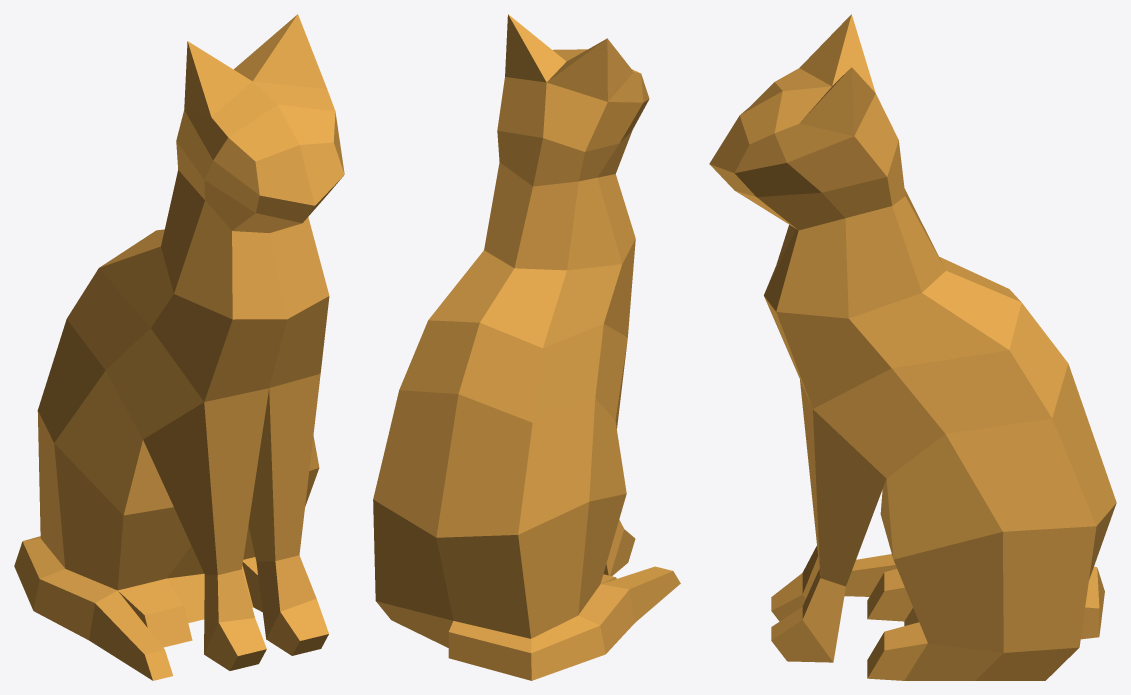
Rendered from 011_Cat.fbx.
3 views of the same model, side by side, from view 1: azimuth 30°, elevation 25°; view 2: azimuth 150°, elevation 25°; view 3: azimuth 270°, elevation 25° (orthographic). The views are drawn at different scales.
Visible parts, largest first — view 1: CAT_STATUE; view 2: CAT_STATUE; view 3: CAT_STATUE.
Boxes of the visible parts, x1,y1,x2,y2 form: CAT_STATUE: [14, 14, 344, 680]; CAT_STATUE: [373, 14, 680, 680]; CAT_STATUE: [709, 14, 1116, 680].
Bounding box in the file's own units: 42.99 × 103 × 63.4.
